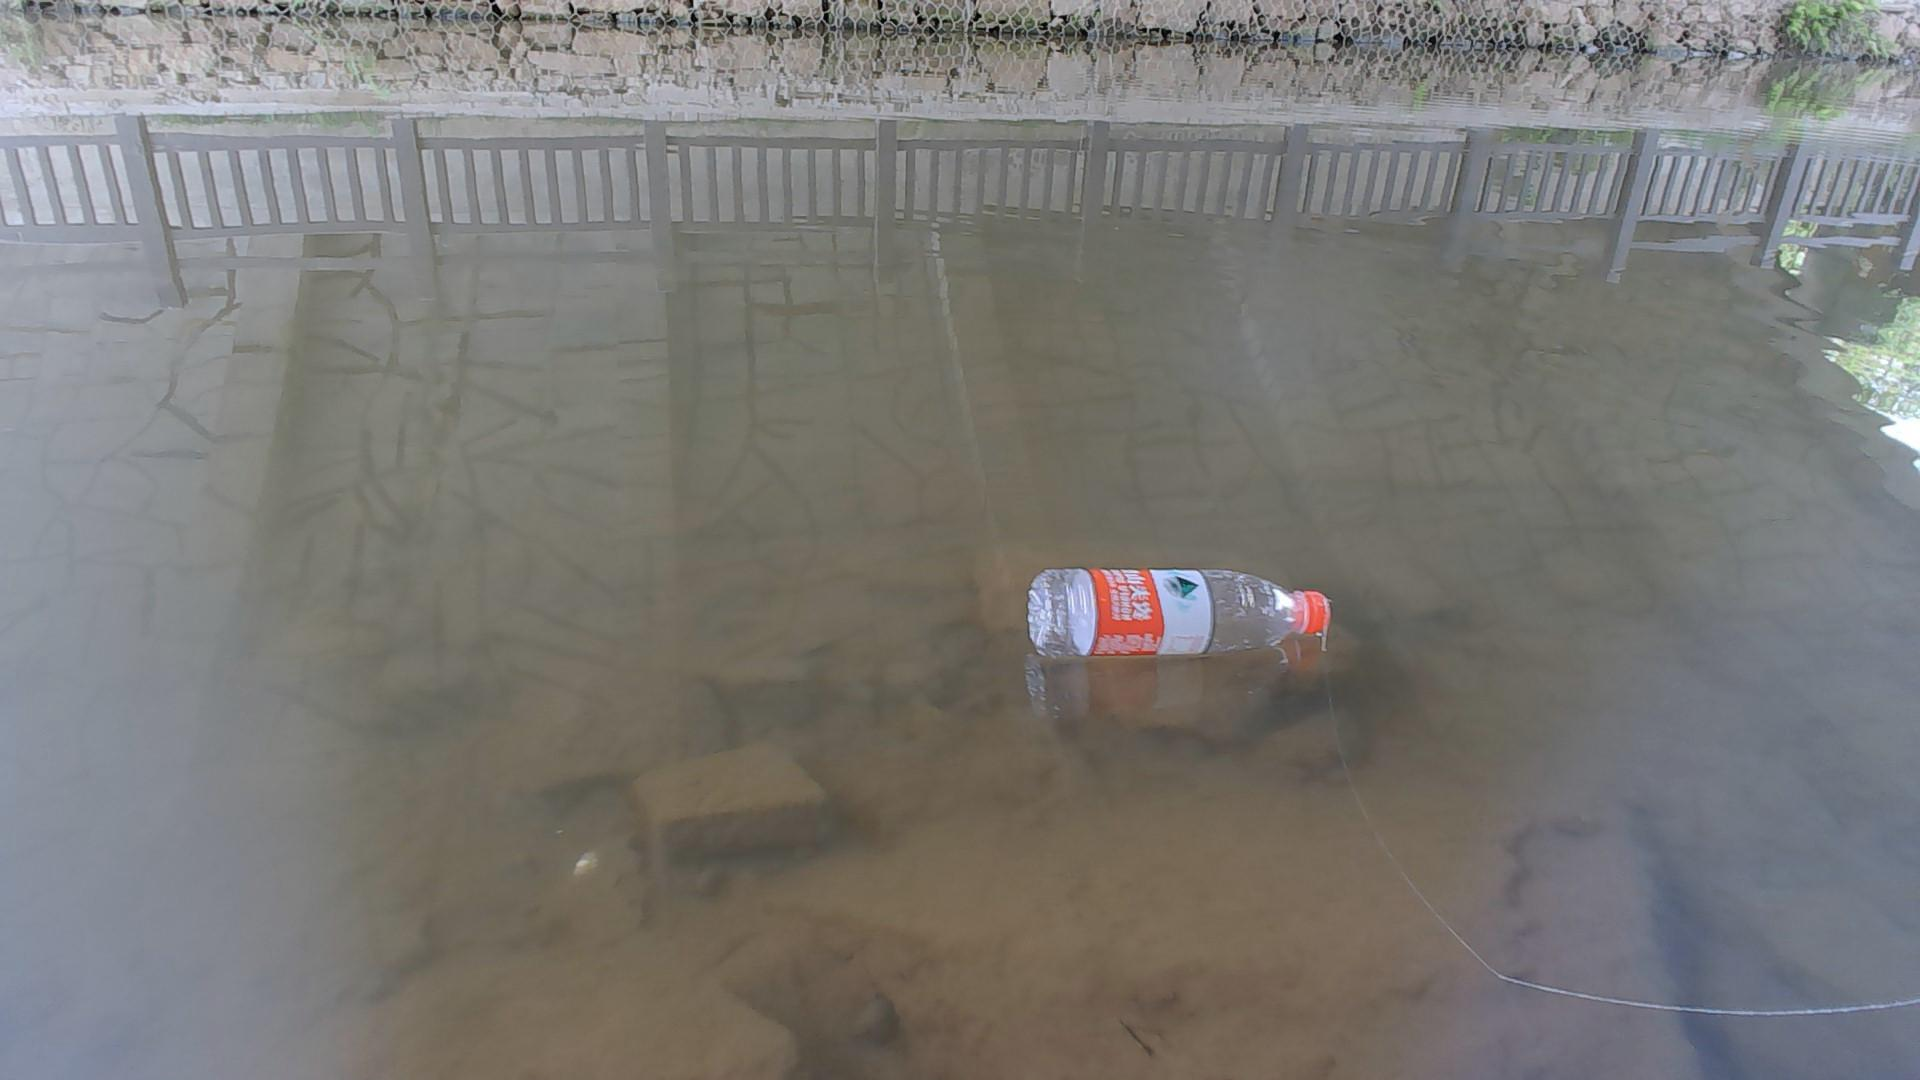Plastic: (1021, 559, 1335, 667)
